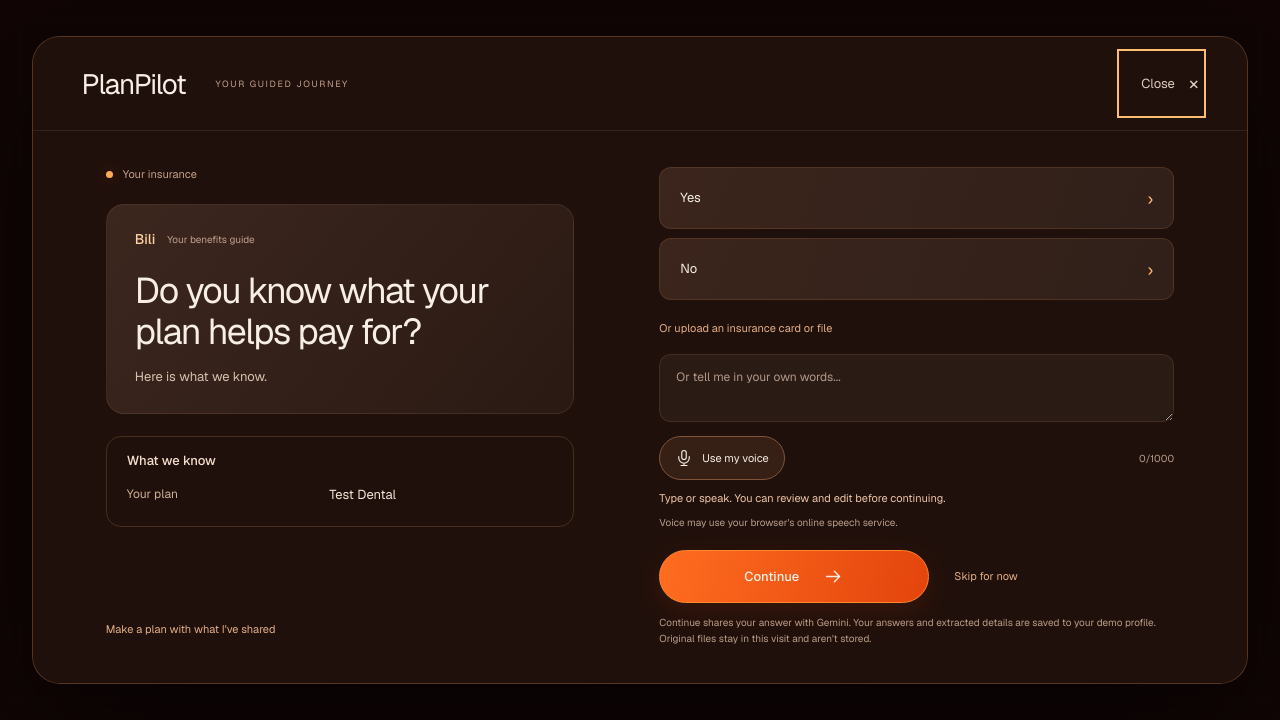
Test case: resumed requests carry earlier extracted facts without attaching absent original documents
Expected: the heading "Do you know what your plan helps pay for?" is shown, [135,270,545,352]
Click the radio button labelled "Yes" at {"x": 691, "y": 198}, box [659,167,1174,229]
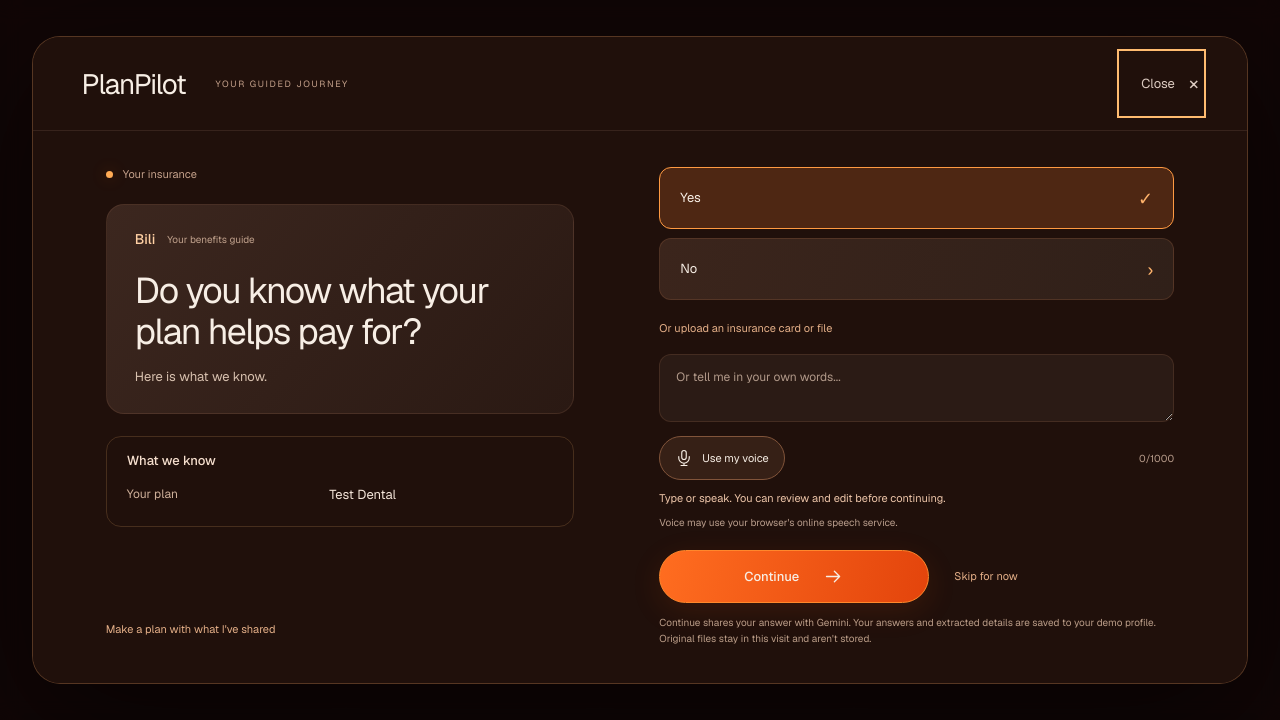
Click the button "Continue" at {"x": 794, "y": 576}, box [659,550,929,603]
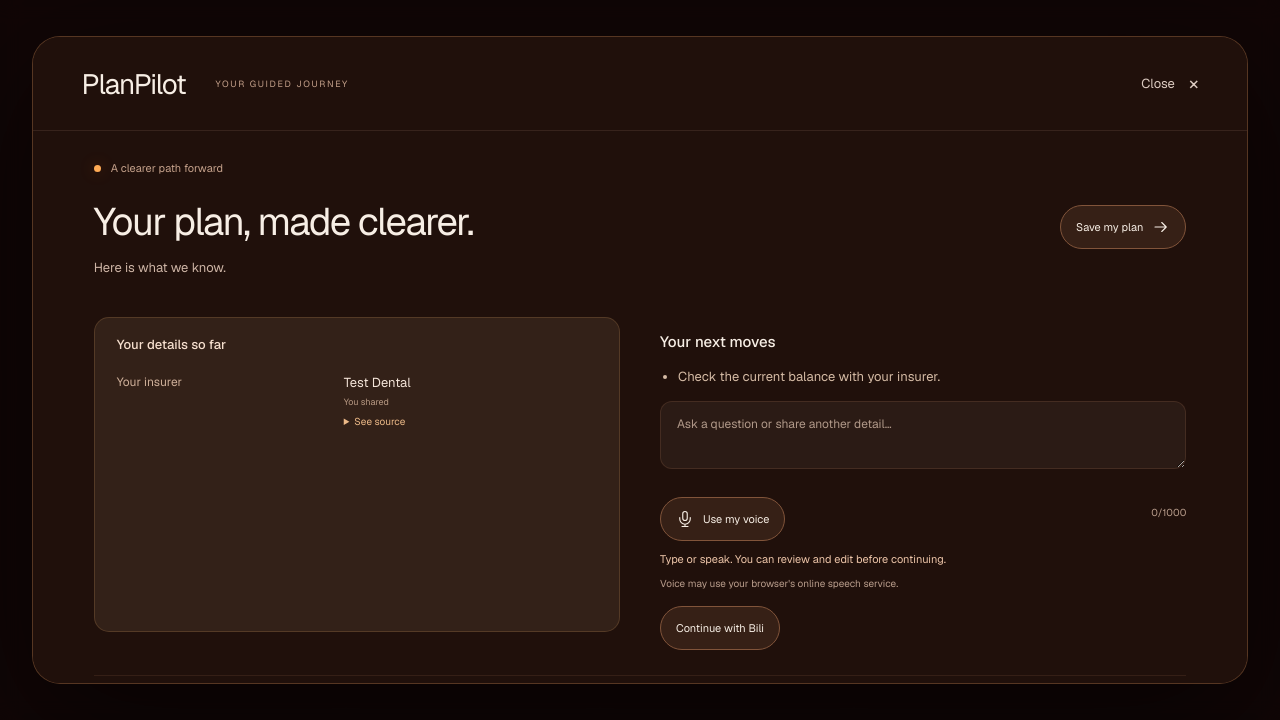
Result: the heading "Your plan, made clearer." is shown at [94,198,473,244]
